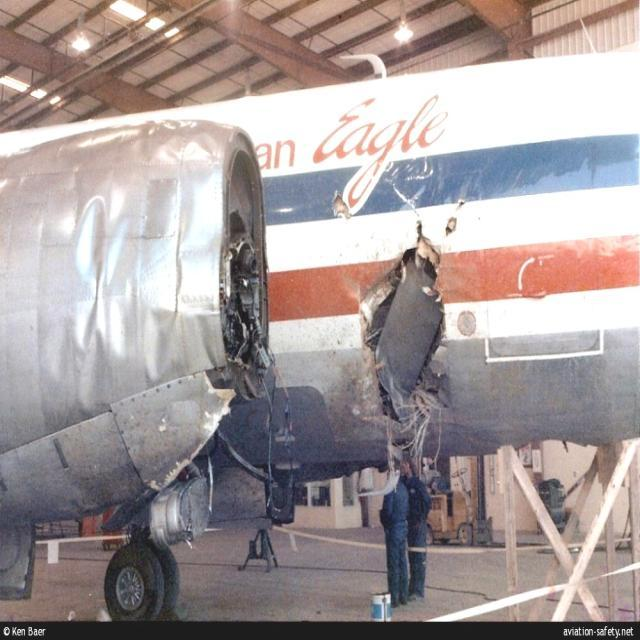dent: (44, 176, 197, 415)
